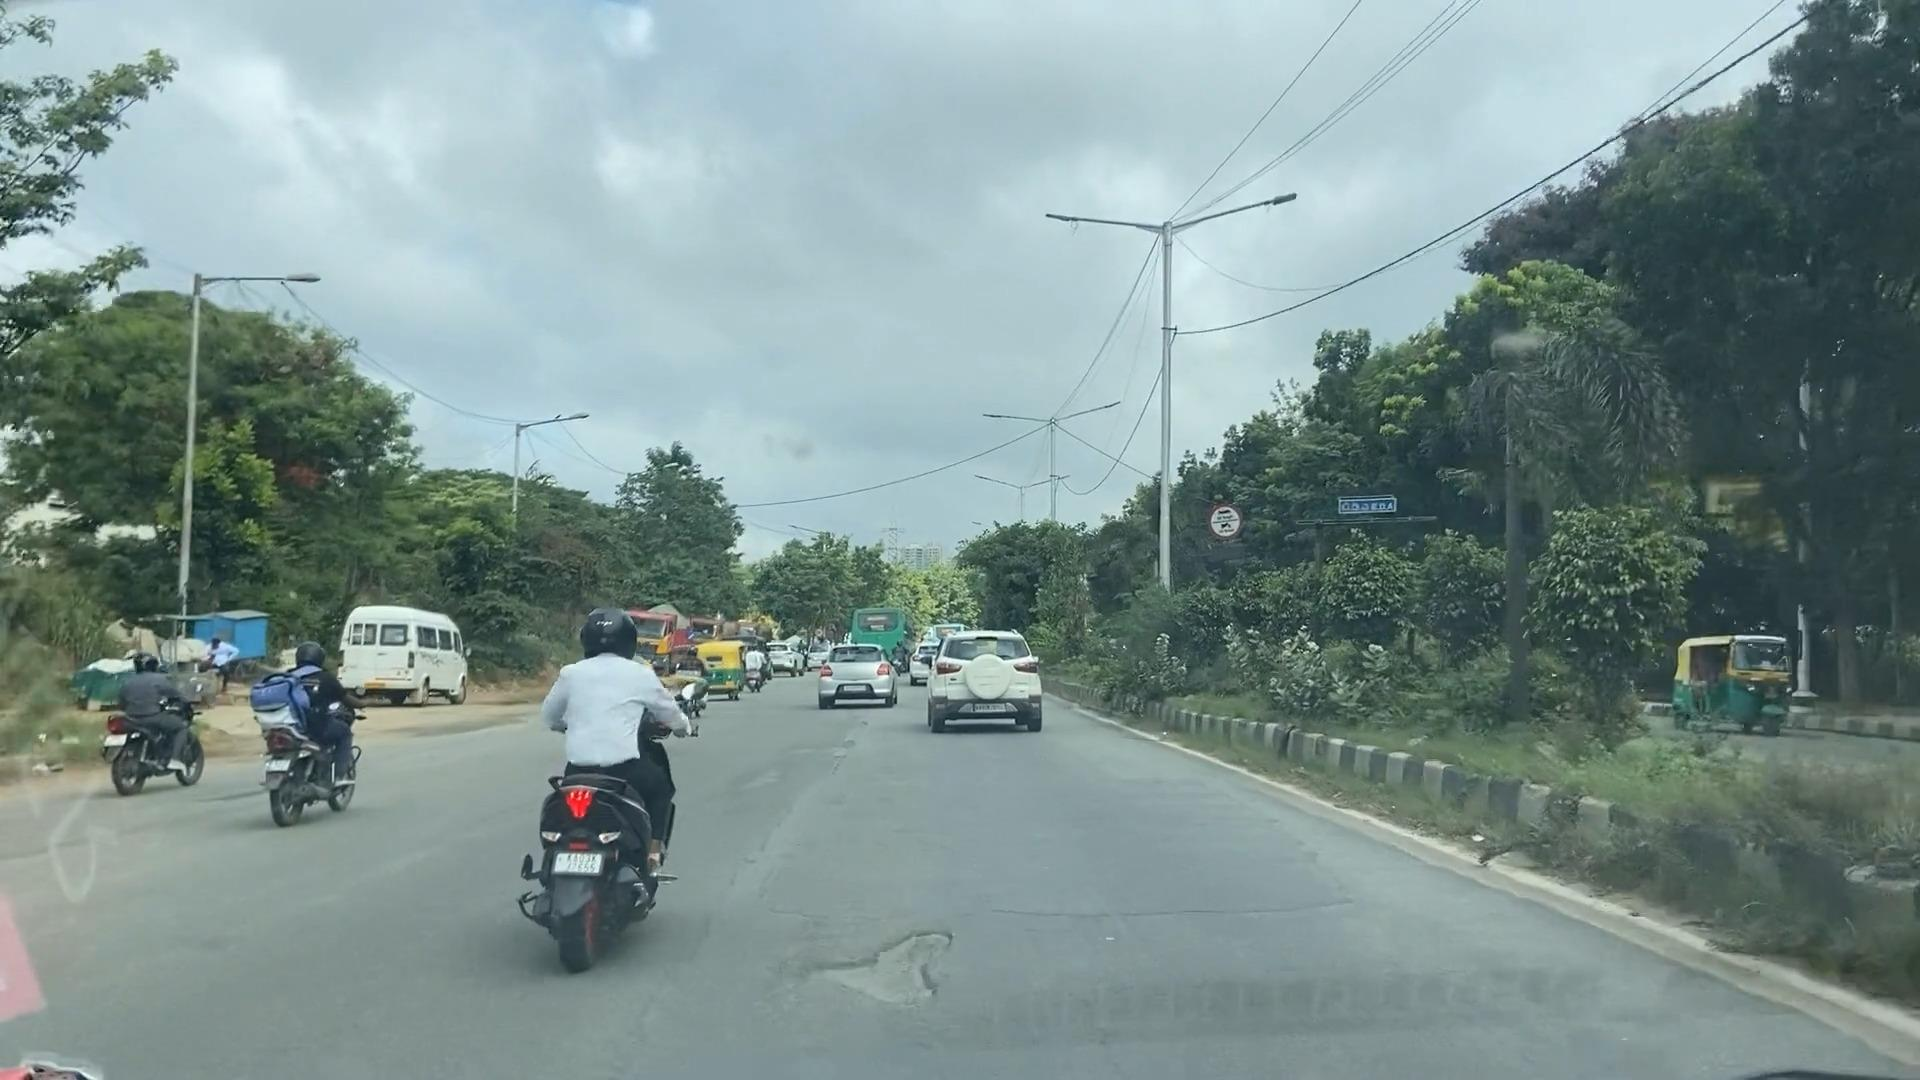HMV: (327, 593, 480, 707)
LMV: (433, 588, 724, 1080), (253, 626, 378, 833), (96, 642, 222, 803), (914, 616, 1058, 736), (794, 628, 902, 738), (658, 632, 712, 737)
RoadDamages: (799, 901, 969, 1050)
